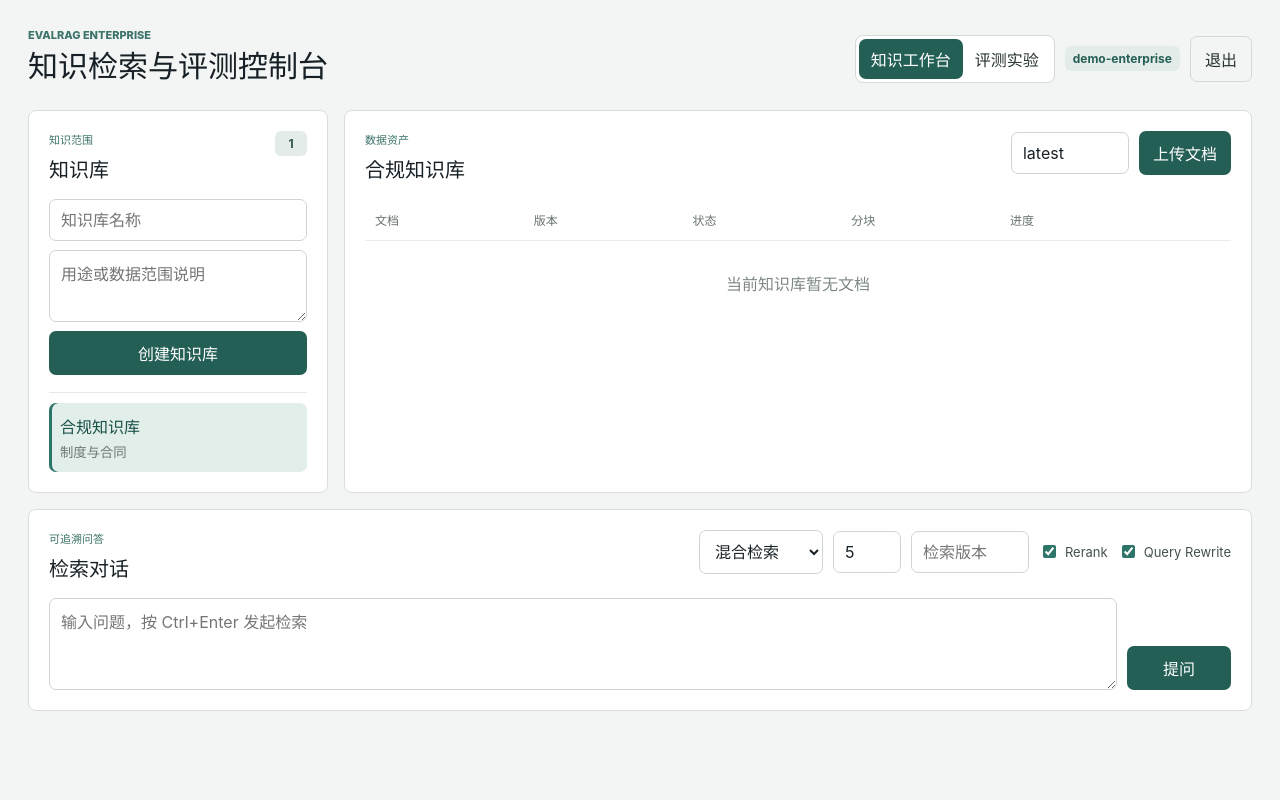
Test: App shell › revokes the session and forgets it on logout
Click the button with class "ghost". click: (1221, 59)
box: [1190,36,1252,82]
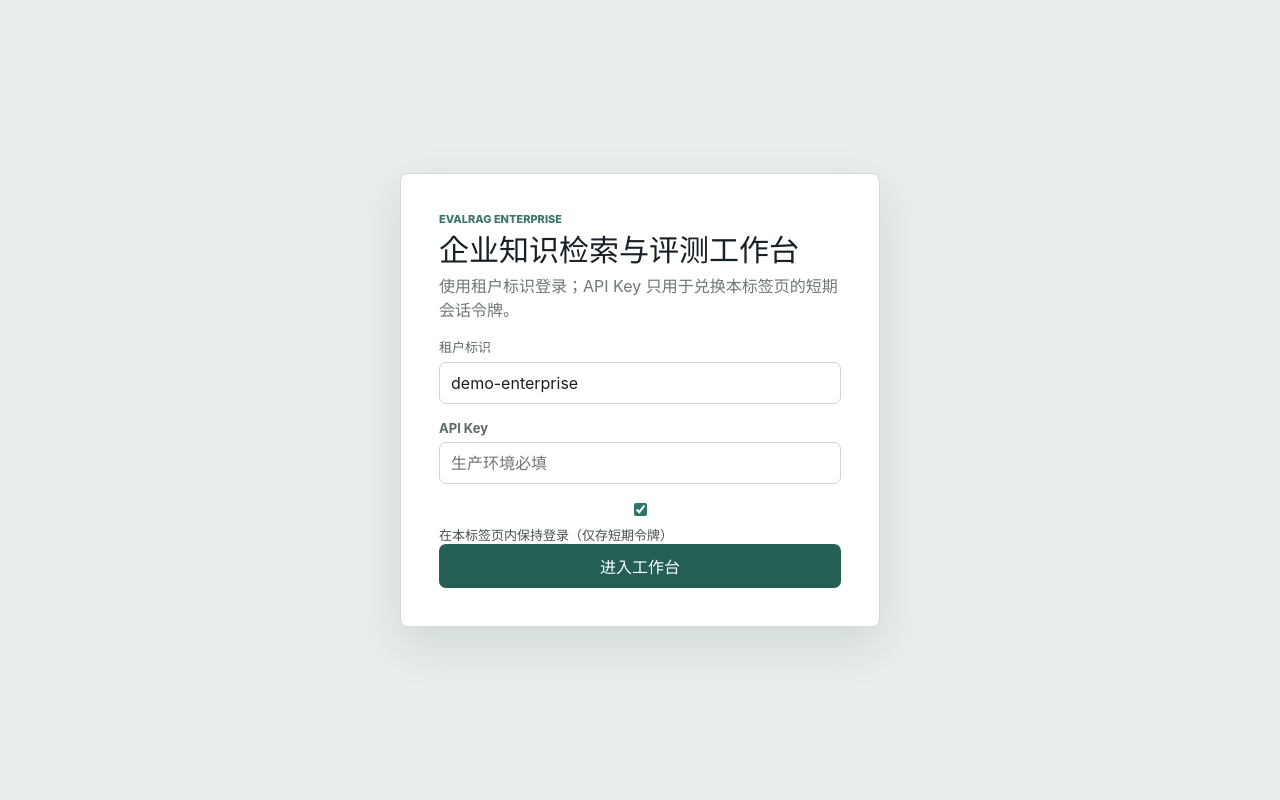
Expected: the element with class "login-page" is shown
